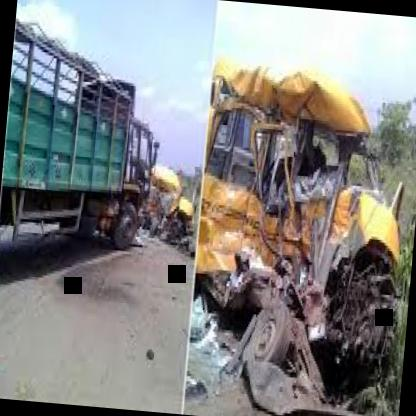accident: (180, 42, 416, 416), (36, 44, 210, 287)
